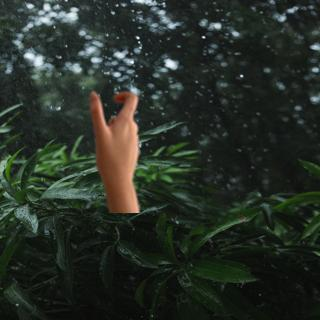HATE: (82, 78, 146, 198)
